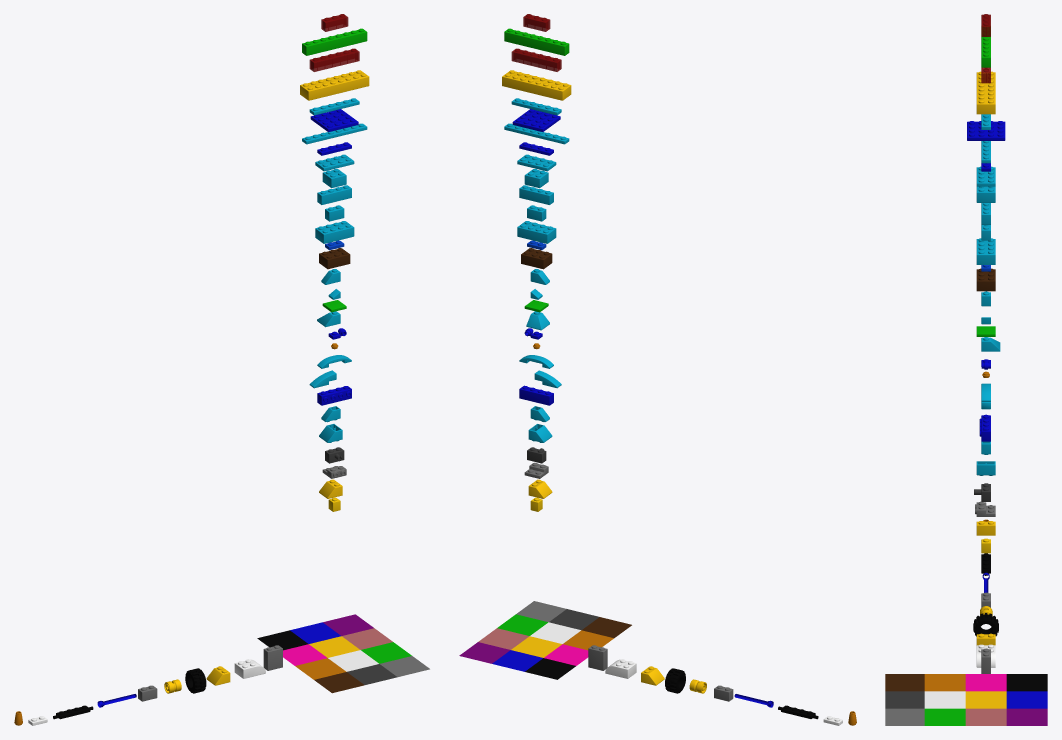
Rendered from parts.glb.
3 views of the same model, side by side, from view 1: azimuth 30°, elevation 25°; view 2: azimuth 150°, elevation 25°; view 3: azimuth 270°, elevation 25° (orthographic). The views are drawn at different scales.
Visible parts, largest first — view 1: materials, 8x2, 8x1, 6x1, 4x4_t, 4x2; view 2: materials, 8x2, 8x1, 6x1, 4x4_t, 4x2; view 3: materials, 8x2, 4x4_t, 4x2, 7, 3x2, 4x2_t, 2x2, 8x1, 4x1_side, inverse_4x1_cut, special_7 (+2 smaller).
Part boxes in pixels (left/top/right/bottom): materials: left=257, top=614, right=429, bottom=693; 8x2: left=300, top=70, right=369, bottom=100; 8x1: left=302, top=28, right=367, bottom=55; 6x1: left=309, top=48, right=359, bottom=71; 4x4_t: left=310, top=109, right=358, bottom=132; 4x2: left=315, top=221, right=354, bottom=243; materials: left=459, top=601, right=631, bottom=679; 8x2: left=502, top=70, right=571, bottom=100; 8x1: left=504, top=28, right=569, bottom=55; 6x1: left=511, top=48, right=561, bottom=71; 4x4_t: left=512, top=109, right=560, bottom=131; 4x2: left=517, top=221, right=556, bottom=243; materials: left=885, top=674, right=1047, bottom=725; 8x2: left=976, top=71, right=995, bottom=114; 4x4_t: left=967, top=121, right=1005, bottom=140; 4x2: left=976, top=238, right=995, bottom=264; 7: left=973, top=613, right=998, bottom=636; 3x2: left=976, top=268, right=995, bottom=291; 4x2_t: left=976, top=166, right=995, bottom=186; 2x2: left=976, top=186, right=995, bottom=202; 8x1: left=981, top=36, right=990, bottom=67; 4x1_side: left=979, top=414, right=990, bottom=441; inverse_4x1_cut: left=976, top=461, right=995, bottom=475; special_7: left=976, top=521, right=995, bottom=535.
Size of what is drawn, in the model's own units: 7.49 by 12.44 by 2.64.
